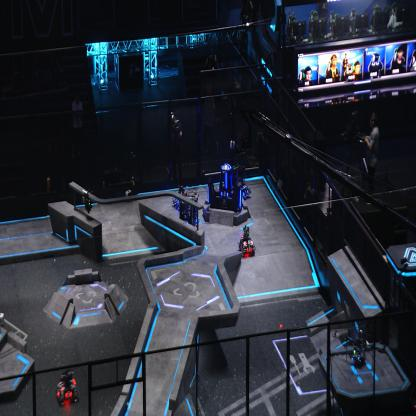car: (177, 189, 201, 234), (56, 369, 79, 406), (230, 164, 252, 199), (238, 224, 257, 258), (172, 185, 185, 209)
